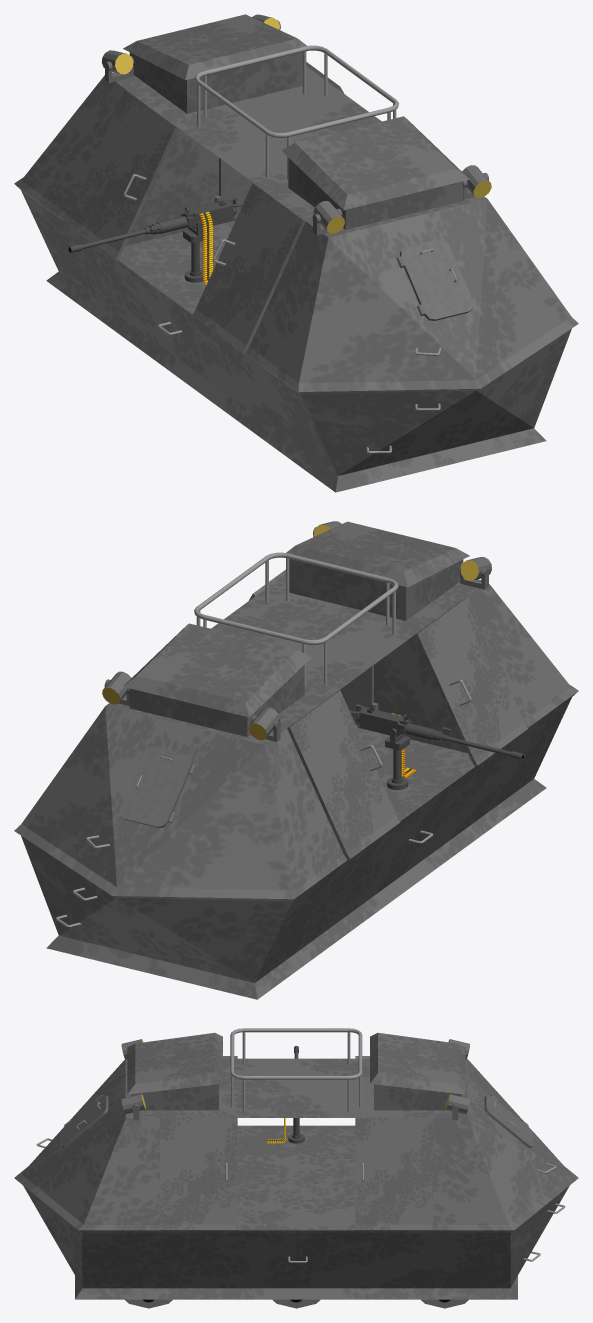
The model's file is Black_Train.fbx.
3 views of the same model, one above another, from view 1: azimuth 30°, elevation 25°; view 2: azimuth 150°, elevation 25°; view 3: azimuth 270°, elevation 25° (orthographic). The views are drawn at different scales.
Parts seen in each view (by area): view 1: polySurface118, transform93; view 2: polySurface118, transform93; view 3: polySurface118, transform93.
Part boxes in pixels (x1,y1,x2,y2): polySurface118: (14, 14, 578, 492); transform93: (68, 197, 243, 285); polySurface118: (14, 521, 578, 999); transform93: (350, 704, 524, 789); polySurface118: (14, 1028, 578, 1308); transform93: (267, 1046, 304, 1143).
Size of the model in its own units: 38.57 by 29.89 by 66.74.
Materials: 2 (2 with a texture image).
